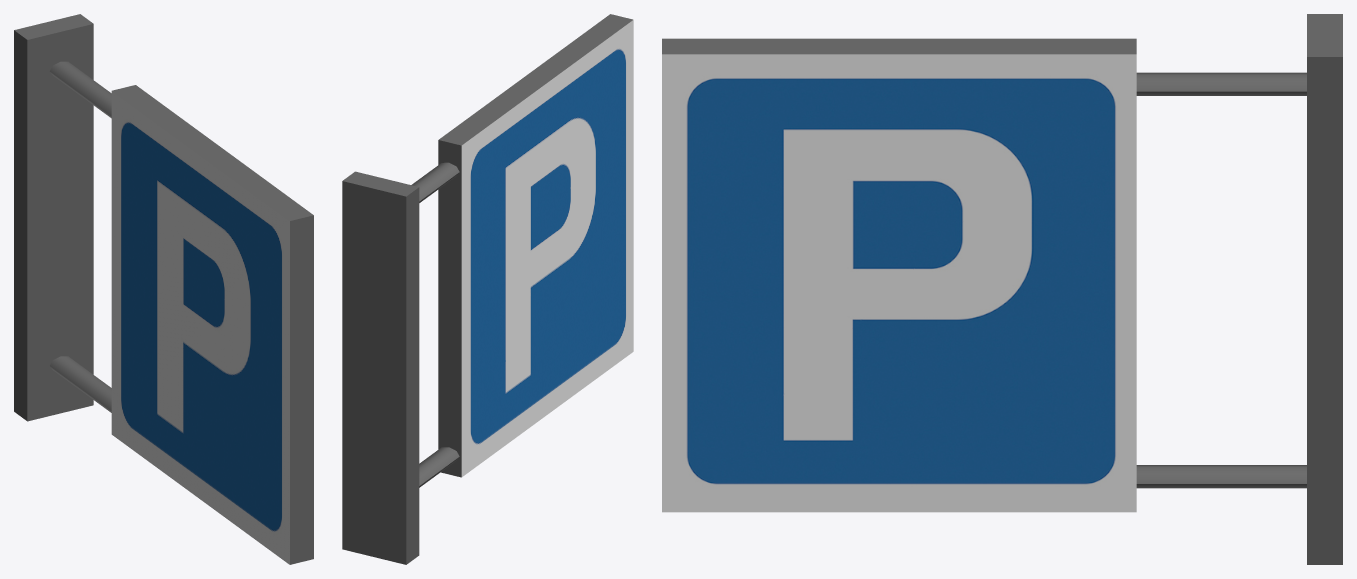
3 views of the same model, side by side, from view 1: azimuth 30°, elevation 25°; view 2: azimuth 150°, elevation 25°; view 3: azimuth 270°, elevation 25° (orthographic). The views are drawn at different scales.
Parts seen in each view (by area): view 1: street_sign_b; view 2: street_sign_b; view 3: street_sign_b.
Part boxes in pixels (left/top/right/bottom): street_sign_b: left=14, top=14, right=313, bottom=564; street_sign_b: left=342, top=14, right=633, bottom=564; street_sign_b: left=662, top=14, right=1342, bottom=564.
Bounding box in the file's own units: 21.83 × 120 × 146.
Materials: 2 (1 with a texture image).
